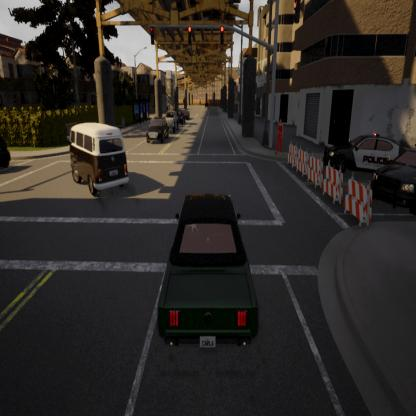Cars: (157, 194, 258, 350), (69, 123, 129, 195), (324, 133, 411, 176), (373, 149, 416, 213), (146, 116, 170, 142), (0, 132, 10, 172), (164, 110, 178, 132), (176, 108, 185, 125), (183, 109, 190, 121), (204, 101, 209, 109)
Pedestrian: (275, 115, 284, 159)
